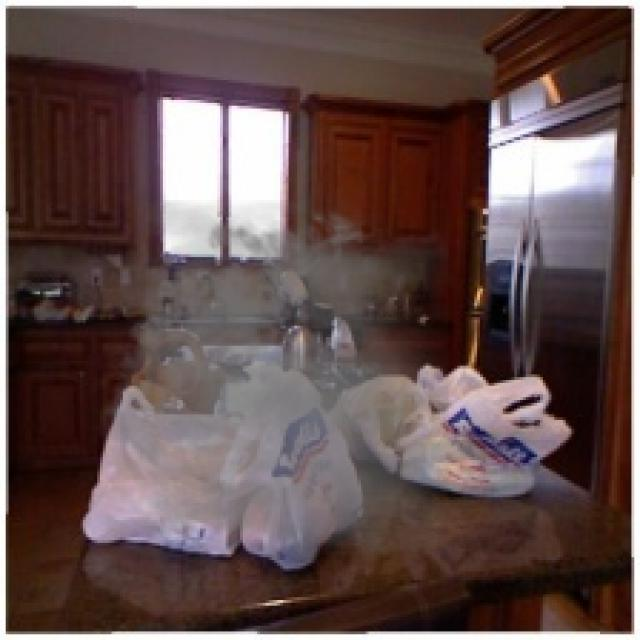smoke: (86, 200, 448, 557)
